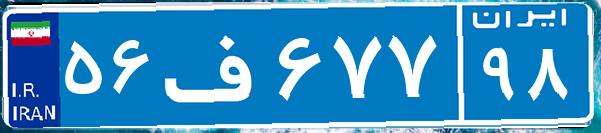5: (57, 26, 110, 107)
6: (273, 28, 330, 110), (110, 28, 158, 105)
7: (385, 28, 445, 110), (330, 28, 385, 110)
8: (525, 38, 570, 115)
9: (475, 38, 525, 113)
ف: (158, 15, 273, 115)
